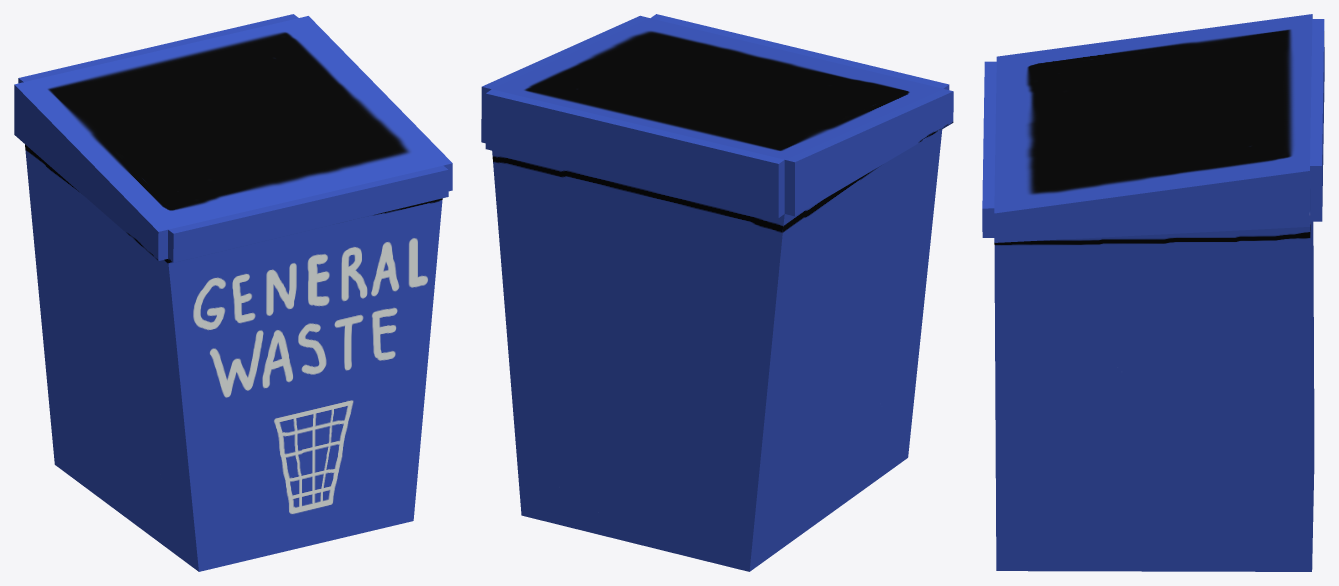
File: generalwaste.fbx
3 renders of one model, left to right at view 1: azimuth 30°, elevation 25°; view 2: azimuth 150°, elevation 25°; view 3: azimuth 270°, elevation 25°, orthographic. The views are drawn at different scales.
Visible parts, largest first — view 1: Cube; view 2: Cube; view 3: Cube.
Boxes of the visible parts, left/top/right/bottom form: Cube: left=14, top=14, right=452, bottom=571; Cube: left=481, top=14, right=953, bottom=571; Cube: left=982, top=14, right=1324, bottom=571.
Size of the model in its own units: 1.09 by 1.01 by 1.38.
Materials: 1 (1 with a texture image).
